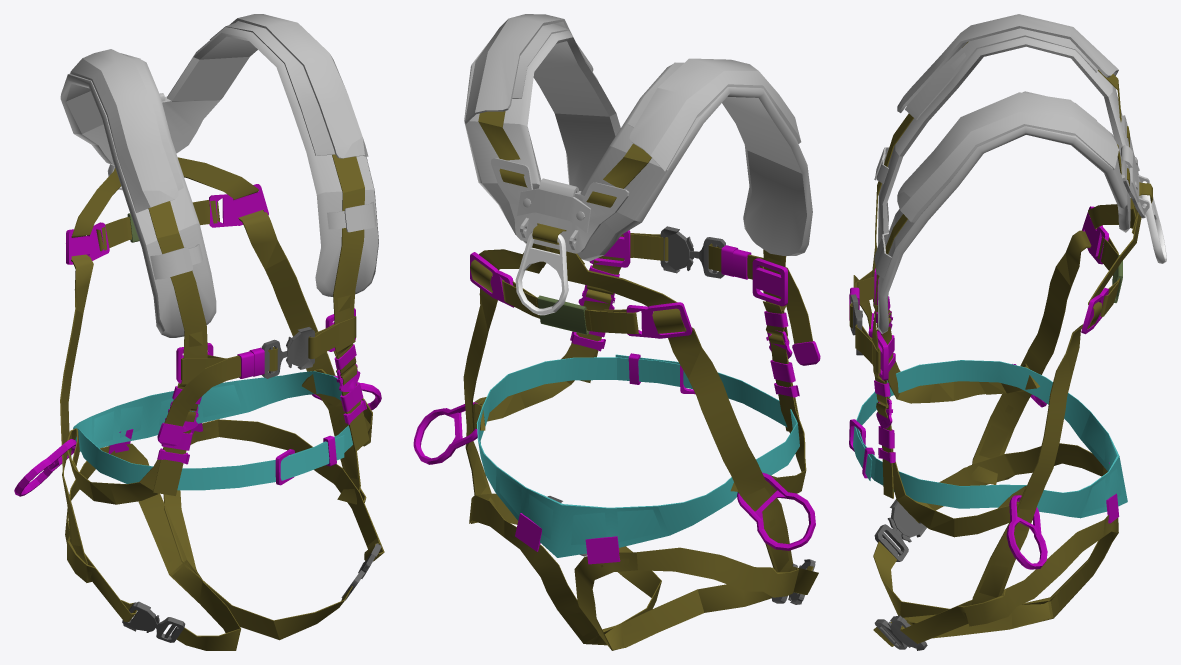
Rendered from safety.fbx.
3 views of the same model, side by side, from view 1: azimuth 30°, elevation 25°; view 2: azimuth 150°, elevation 25°; view 3: azimuth 270°, elevation 25° (orthographic). The views are drawn at different scales.
Parts seen in each view (by area): view 1: webbing, armPads, grommetBelt, extraParts, buckles; view 2: armPads, webbing, grommetBelt, extraParts, buckles, D_Ring, label; view 3: webbing, armPads, grommetBelt, extraParts, buckles, D_Ring.
Part boxes in pixels (x1=…): webbing: x1=60, y1=154, x2=384, y2=650; armPads: x1=60, y1=14, x2=378, y2=337; grommetBelt: x1=73, y1=371, x2=352, y2=490; extraParts: x1=14, y1=184, x2=381, y2=496; buckles: x1=122, y1=327, x2=381, y2=642; armPads: x1=464, y1=14, x2=812, y2=261; webbing: x1=463, y1=111, x2=818, y2=650; grommetBelt: x1=476, y1=354, x2=799, y2=557; extraParts: x1=413, y1=230, x2=820, y2=564; buckles: x1=547, y1=226, x2=815, y2=604; D_Ring: x1=515, y1=231, x2=568, y2=315; label: x1=537, y1=295, x2=589, y2=334; webbing: x1=849, y1=41, x2=1152, y2=646; armPads: x1=874, y1=14, x2=1149, y2=333; grommetBelt: x1=853, y1=360, x2=1127, y2=518; extraParts: x1=849, y1=206, x2=1119, y2=569; buckles: x1=850, y1=294, x2=927, y2=650; D_Ring: x1=1142, y1=195, x2=1166, y2=263.
Size of the model in its own units: 1.35 by 2 by 1.
